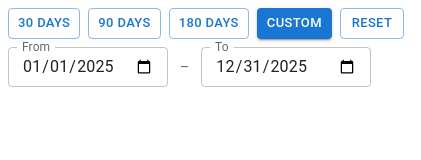
Test: DateRangeFilter inverted range › holds an inverted range in the fields without calling onChange
In the date field labelled "From": x=88, y=67 [8,47,168,87], type "2026-01-15"
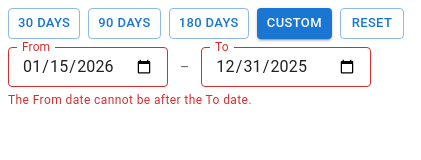
Check: the date field labelled "To" holds "2025-12-31", box [201,47,371,87]
Check: the message reads "The From date cannot be after the To date.", box [8,93,252,107]
